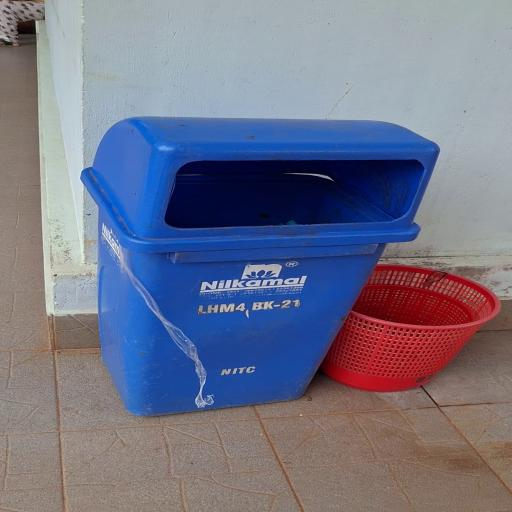Nilkamal-dustbin-detection: (82, 118, 438, 415)
